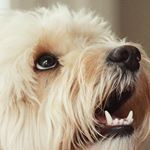puppy: (1, 6, 148, 141)
